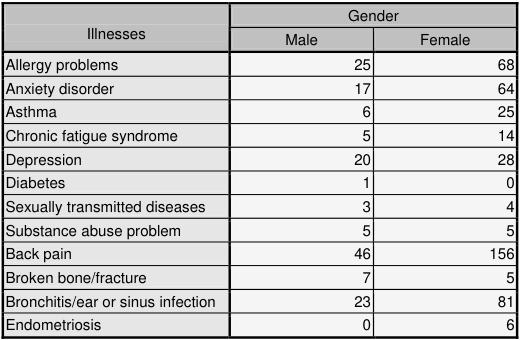table: (4, 3, 513, 333)
table column: (4, 3, 249, 333), (249, 3, 394, 333), (394, 3, 513, 333)
table column header: (4, 3, 513, 50)
table row: (4, 26, 513, 50), (4, 50, 513, 74), (4, 74, 513, 98), (4, 98, 513, 122), (4, 145, 513, 169), (4, 169, 513, 193), (4, 216, 513, 240), (4, 240, 513, 264), (4, 264, 513, 288), (4, 3, 513, 26), (4, 122, 513, 145), (4, 193, 513, 216), (4, 288, 513, 311), (4, 311, 513, 333)
table spanning cell: (4, 3, 249, 50), (249, 3, 513, 26)
